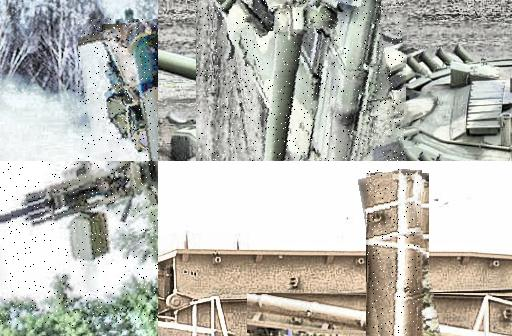tanks: (220, 1, 405, 162), (1, 162, 159, 262), (79, 21, 159, 162), (368, 170, 420, 336), (159, 292, 231, 336)
